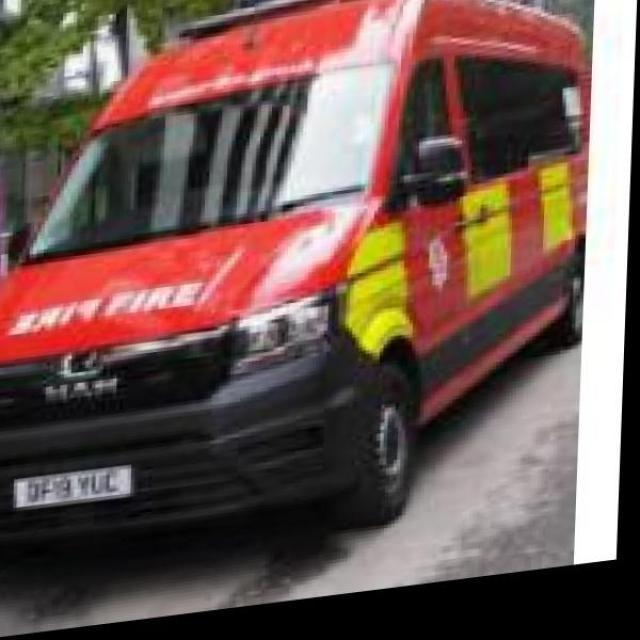emergency: (1, 0, 591, 548)
